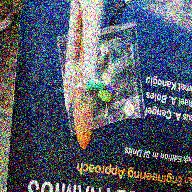러키펜정: (124, 103, 134, 117)
씨엠지세파클러캡슐: (102, 73, 116, 96)
에르도캡슐: (85, 80, 104, 92)
휴티렌정: (97, 90, 113, 104)
